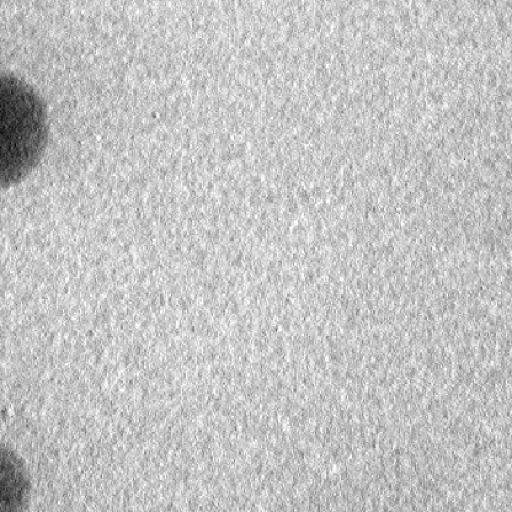Nanoparticles: (2, 73, 48, 189), (0, 441, 35, 512)
